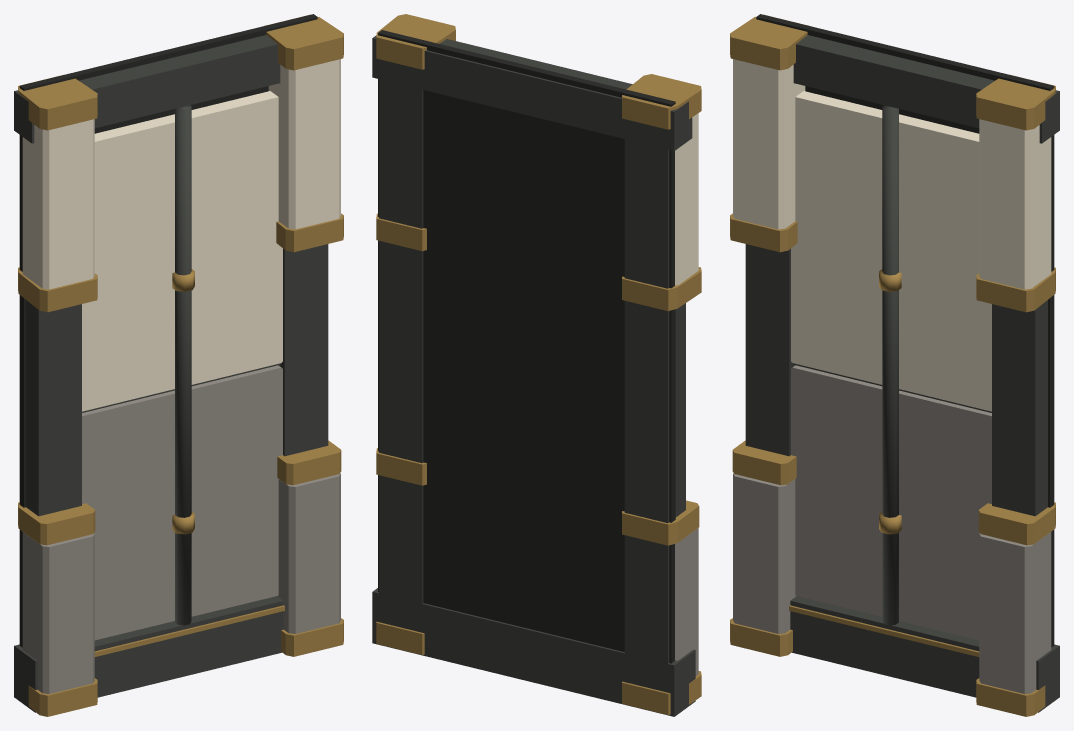
File: b3_wall_plain.glb
3 views of the same model, side by side, from view 1: azimuth 30°, elevation 25°; view 2: azimuth 150°, elevation 25°; view 3: azimuth 330°, elevation 25° (orthographic).
Parts seen in each view (by area): view 1: b3_wall_plain; view 2: b3_wall_plain; view 3: b3_wall_plain.
Part boxes in pixels (box(x1,y1,x2,y2)): b3_wall_plain: box(14, 14, 343, 716); b3_wall_plain: box(372, 14, 701, 716); b3_wall_plain: box(730, 14, 1059, 716).
Bounding box in the file's own units: 2.1 × 4.03 × 0.3756.
